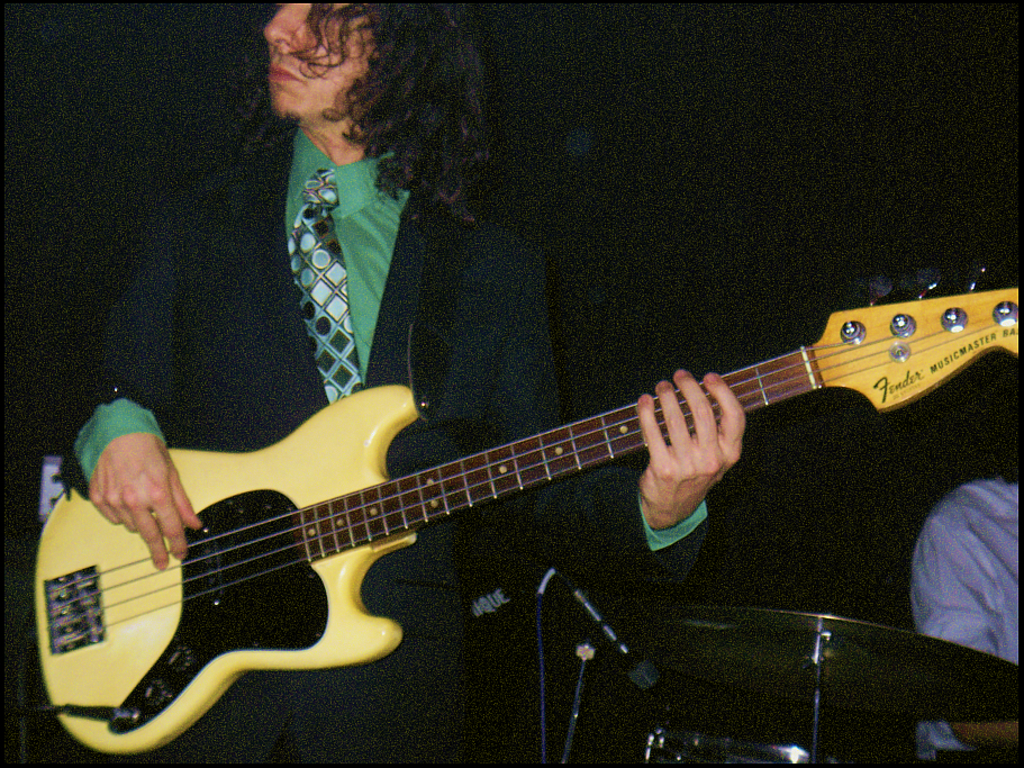face: (261, 2, 375, 114)
